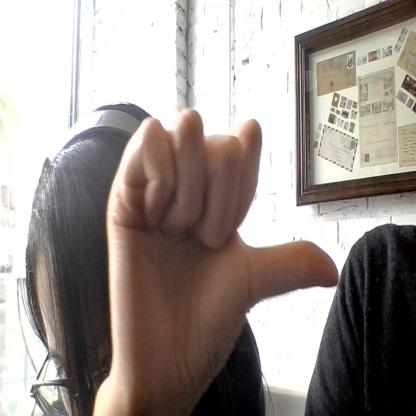left: (104, 107, 340, 404)
